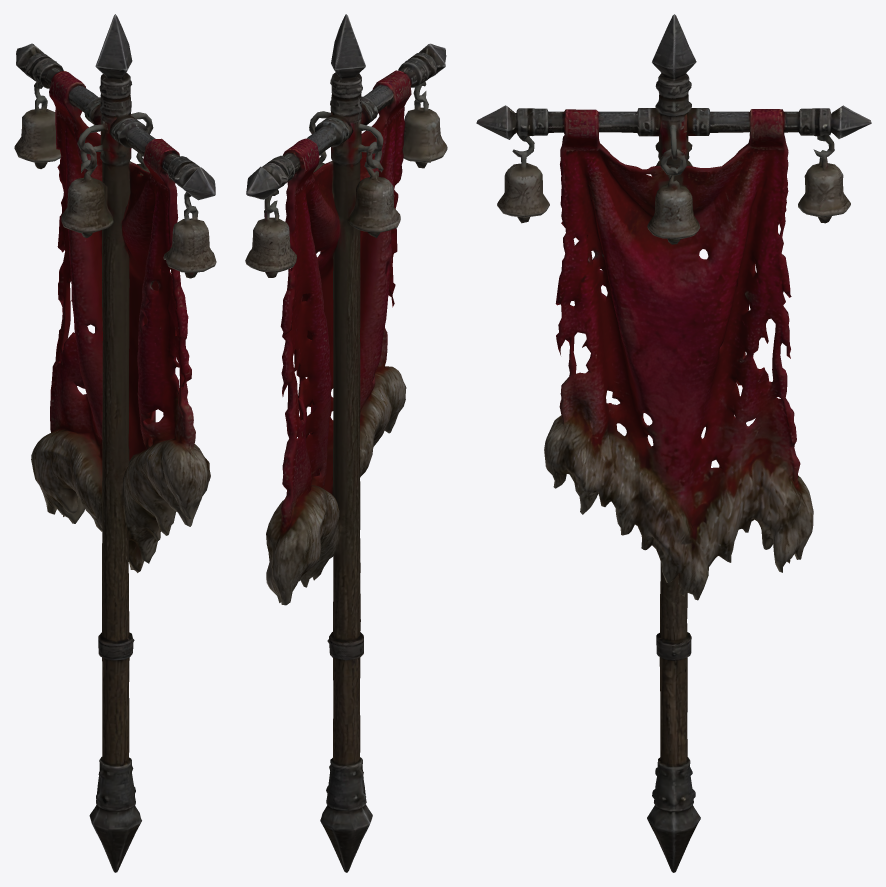
File: war_banner.glb
3 renders of one model, left to right at view 1: azimuth 30°, elevation 25°; view 2: azimuth 150°, elevation 25°; view 3: azimuth 270°, elevation 25°, orthographic.
Parts seen in each view (by area): view 1: tripo_node_0e1311fa-f634-482c-9f40-86a0c83a44d3; view 2: tripo_node_0e1311fa-f634-482c-9f40-86a0c83a44d3; view 3: tripo_node_0e1311fa-f634-482c-9f40-86a0c83a44d3.
Boxes of the visible parts, left/top/right/bottom form: tripo_node_0e1311fa-f634-482c-9f40-86a0c83a44d3: left=14, top=14, right=216, bottom=872; tripo_node_0e1311fa-f634-482c-9f40-86a0c83a44d3: left=245, top=14, right=447, bottom=872; tripo_node_0e1311fa-f634-482c-9f40-86a0c83a44d3: left=476, top=14, right=871, bottom=872.
Size of the model in its own units: 0.125 by 1 by 0.4172.
1 material, 1 textured.
